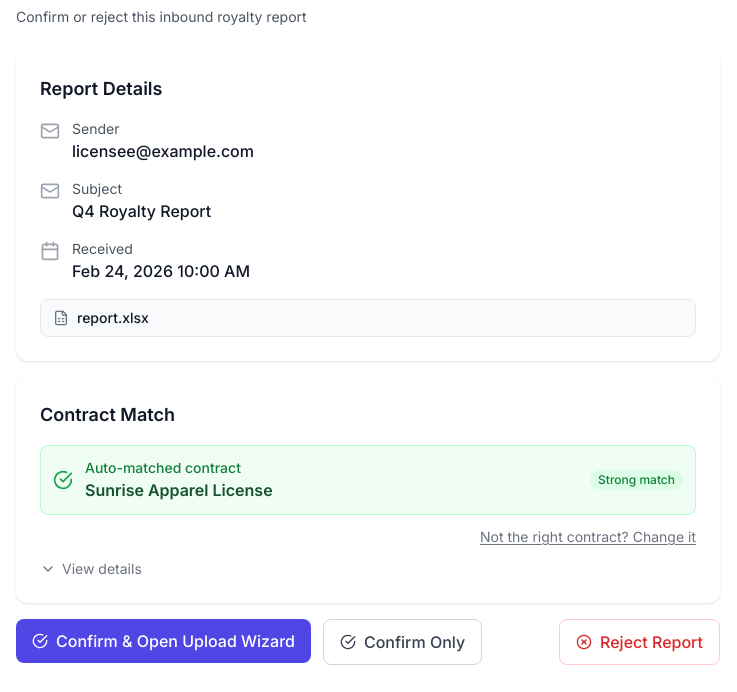
it: Inbox Review Page › Action buttons › shows action error when confirmReport throws
The width and height of the screenshot is (737, 692).
(page scrolled)
Click the button "Confirm Only". click: coordinates (403, 642)
box: [323,619,482,665]
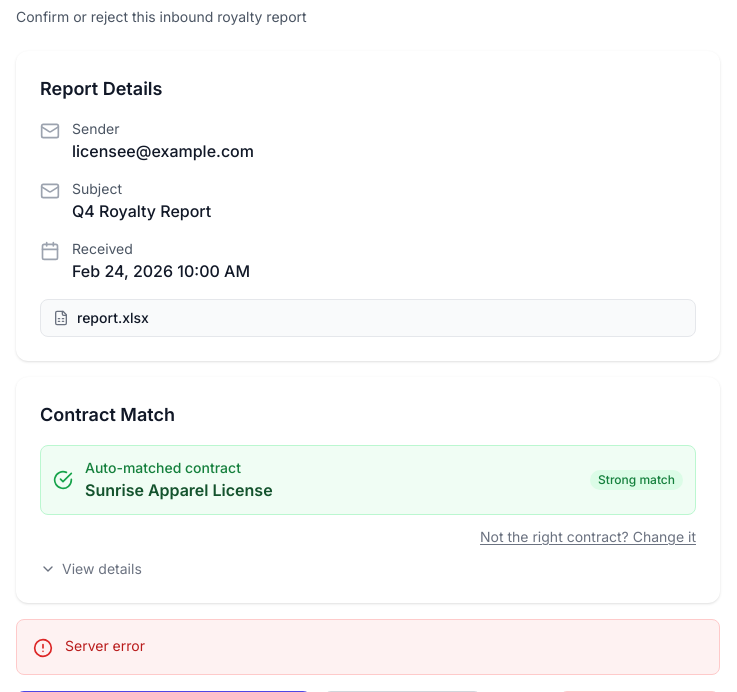
expect the text "Server error" is shown: met, box [65,636,145,656]
